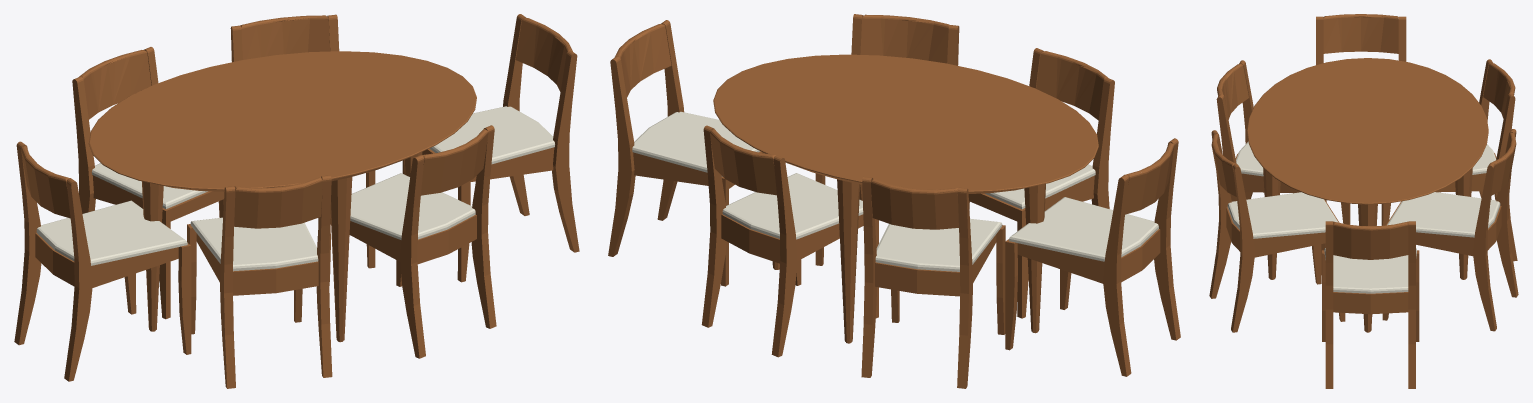
File: Dining Set.glb
3 renders of one model, left to right at view 1: azimuth 30°, elevation 25°; view 2: azimuth 150°, elevation 25°; view 3: azimuth 270°, elevation 25°, orthographic. The views are drawn at different scales.
Visible parts, largest first — view 1: Node; view 2: Node; view 3: Node.
Part boxes in pixels (x1,y1,x2,y2): Node: (14,14,579,388); Node: (608,14,1180,388); Node: (1209,14,1518,388).
Bounding box in the file's own units: 88.22 × 31.6 × 53.61.
